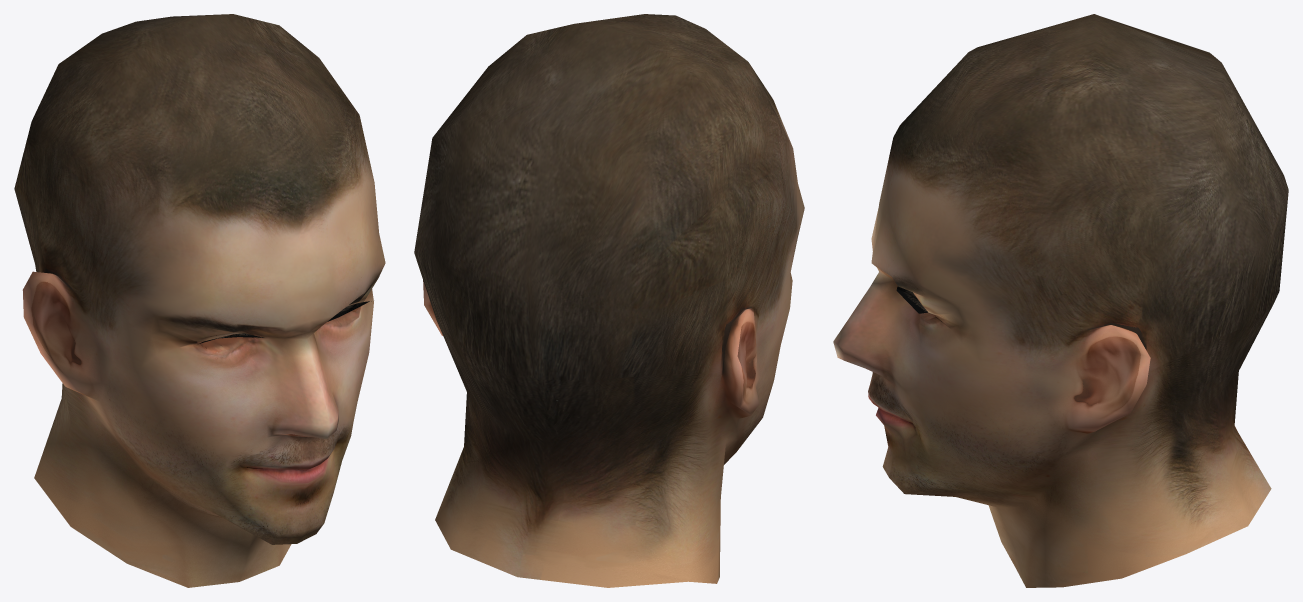
Rendered from head.DAE.
3 renders of one model, left to right at view 1: azimuth 30°, elevation 25°; view 2: azimuth 150°, elevation 25°; view 3: azimuth 270°, elevation 25°, orthographic. The views are drawn at different scales.
Visible parts, largest first — view 1: head02_PIVOT; view 2: head02_PIVOT; view 3: head02_PIVOT.
Part boxes in pixels (<box>): head02_PIVOT: <box>14,14,385,587</box>; head02_PIVOT: <box>414,14,804,587</box>; head02_PIVOT: <box>833,14,1288,587</box>.
Size of the model in its own units: 6.19 by 8.04 by 10.53.
Materials: 1 (1 with a texture image).
